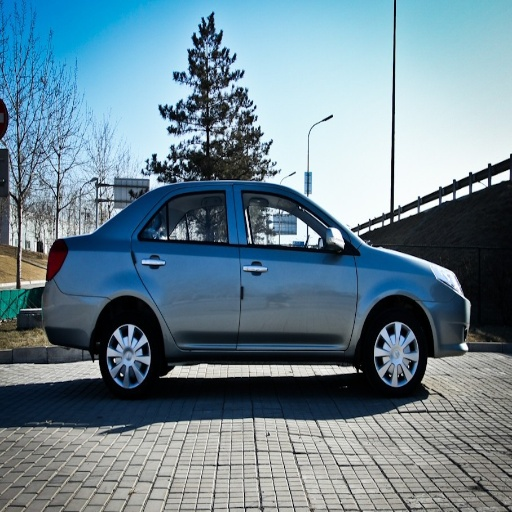back_right_door: (133, 184, 241, 349)
front_right_door: (237, 185, 357, 350)
